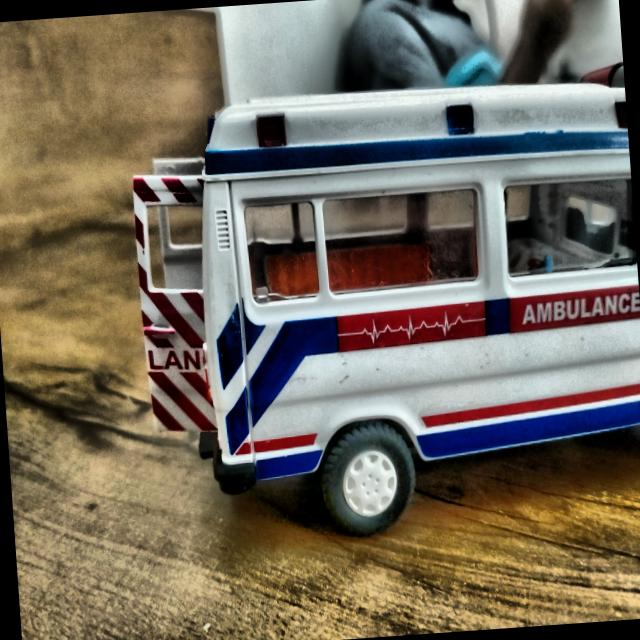Ambulance: (122, 66, 640, 543)
